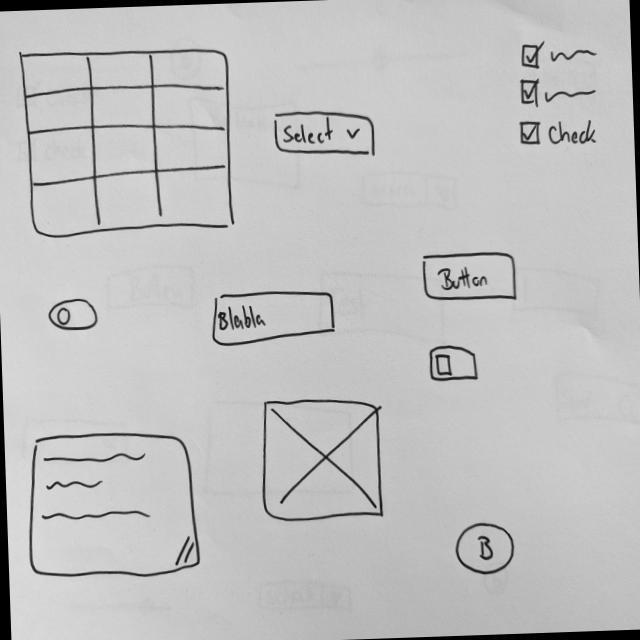button: (420, 249, 521, 307)
checkbox: (519, 75, 602, 108), (519, 116, 599, 150), (520, 40, 599, 71)
icon-button: (454, 520, 518, 576)
image: (260, 395, 387, 526)
input: (210, 289, 338, 350)
select: (273, 106, 380, 164)
table: (18, 42, 238, 243)
textbox: (27, 427, 204, 582)
toggle: (427, 343, 483, 389), (48, 296, 99, 335)
